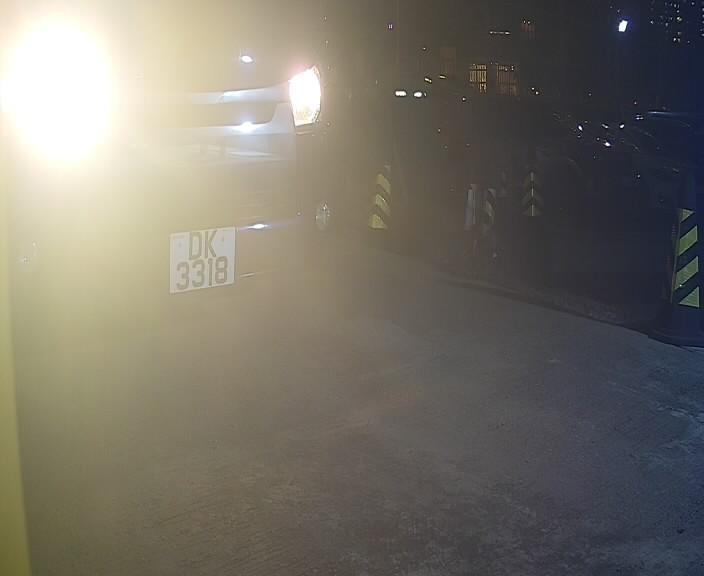Car: (10, 24, 544, 433)
License Plate: (151, 201, 255, 307)
